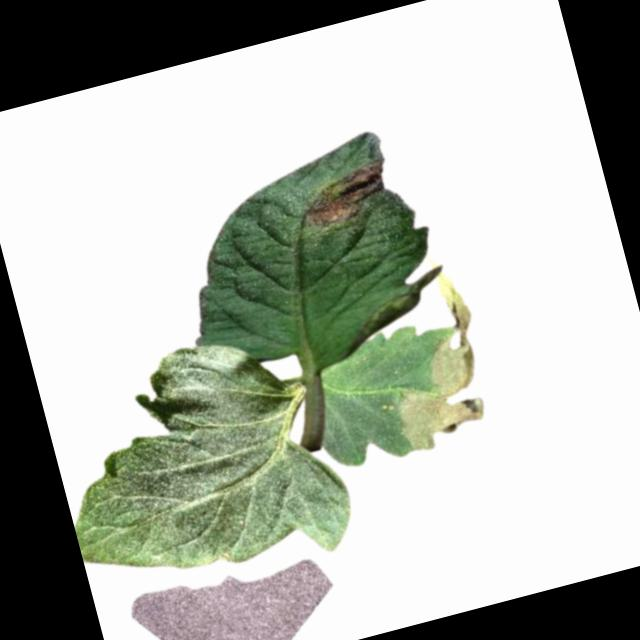Late_blight: (369, 273, 502, 454), (289, 157, 397, 234)
healthy: (38, 317, 359, 614)
